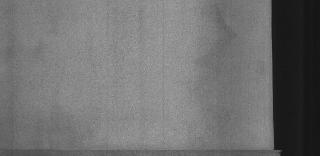welding line: (2, 145, 294, 153)
